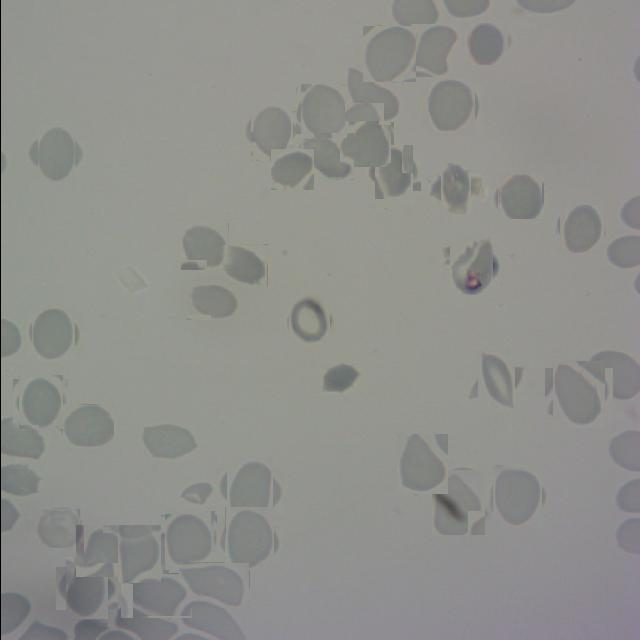leukocyte: (548, 364, 608, 424), (430, 469, 484, 535), (344, 63, 402, 121), (220, 463, 278, 520), (178, 562, 249, 608), (120, 573, 191, 618), (488, 468, 544, 524), (220, 511, 276, 566), (396, 434, 447, 494), (162, 513, 217, 568), (362, 26, 415, 82), (424, 81, 478, 134), (410, 24, 463, 77), (60, 562, 112, 614), (300, 132, 354, 180), (114, 529, 164, 580), (246, 107, 296, 157), (28, 310, 78, 360), (298, 86, 348, 136), (470, 356, 520, 406), (74, 526, 124, 576), (15, 377, 64, 426), (139, 422, 198, 462), (180, 222, 228, 270), (284, 296, 332, 344), (369, 148, 416, 196), (32, 130, 80, 177), (186, 280, 242, 320), (62, 404, 114, 446), (557, 206, 604, 252), (346, 120, 392, 166), (217, 244, 267, 286), (498, 174, 542, 218), (270, 148, 314, 190), (38, 508, 80, 548), (434, 168, 476, 208), (468, 24, 508, 64), (320, 363, 360, 395)
red blood cell: (445, 241, 495, 292)
